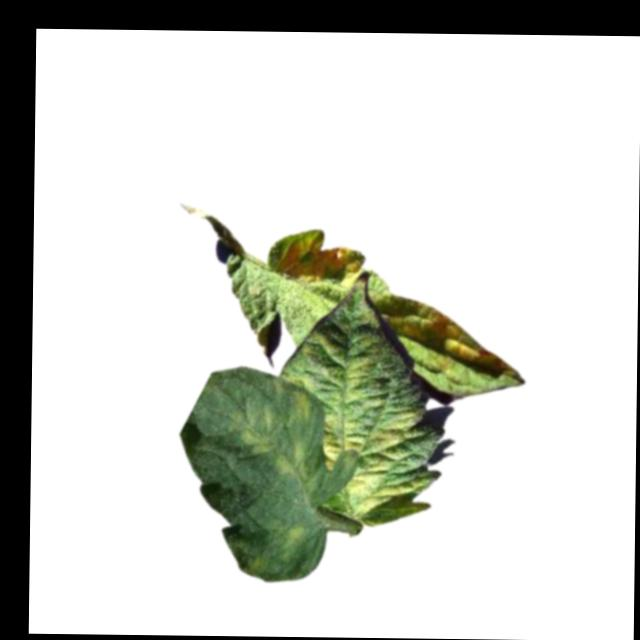Leaf_Mold: (323, 402, 427, 521), (380, 295, 532, 373), (232, 404, 317, 480), (278, 234, 368, 288), (244, 519, 308, 580), (287, 389, 316, 425)
